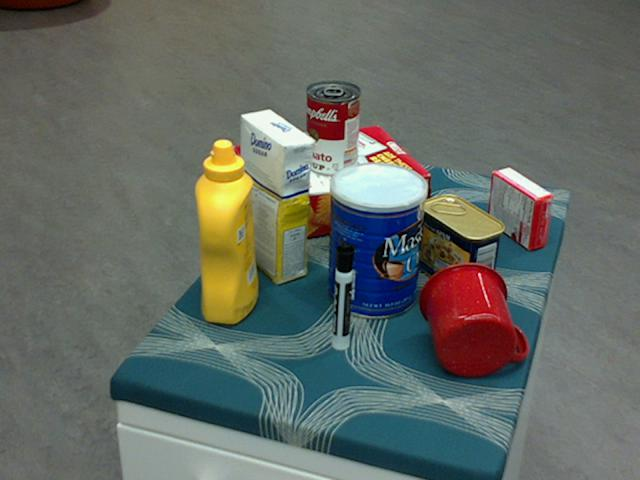cracker_box: (232, 124, 430, 247)
gelatin_box: (488, 167, 554, 250)
large_marker: (332, 242, 353, 351)
master_chef_can: (328, 161, 427, 319)
mug: (419, 260, 526, 376)
mustard_bottle: (194, 140, 259, 325)
potted_meat_can: (419, 194, 505, 297)
sugar_box: (239, 110, 312, 286)
tomato_soup_can: (306, 81, 360, 177)
tuna_fish_can: (350, 168, 423, 240)
